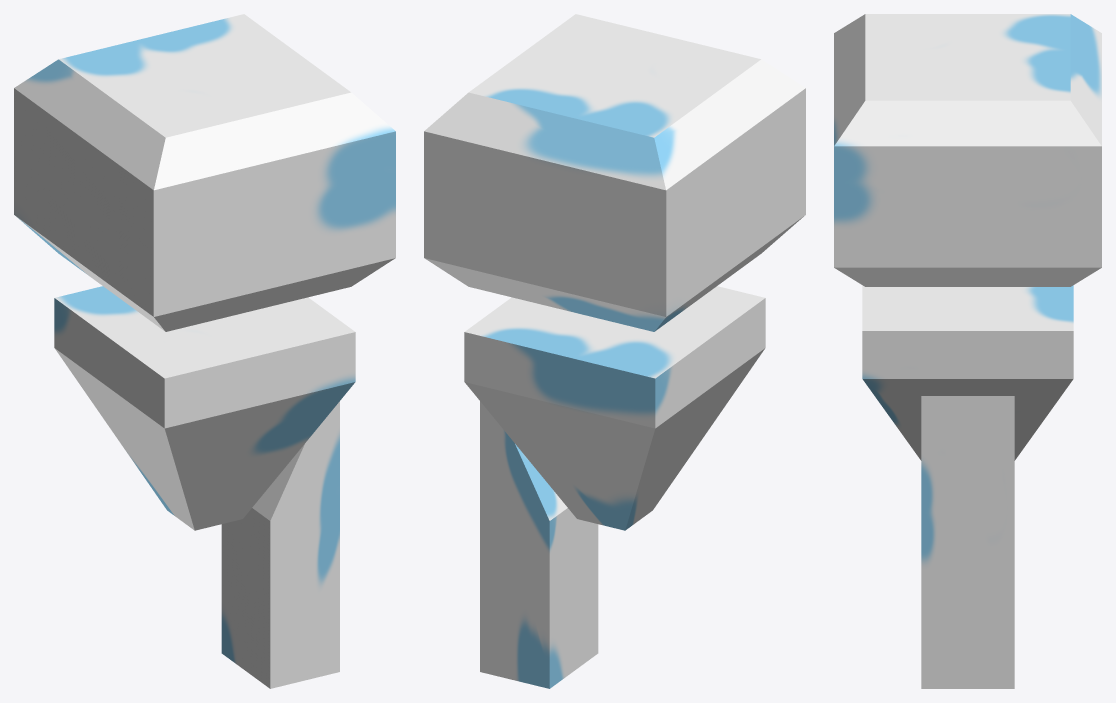
File: simple.gltf
3 views of the same model, side by side, from view 1: azimuth 30°, elevation 25°; view 2: azimuth 150°, elevation 25°; view 3: azimuth 270°, elevation 25° (orthographic). The views are drawn at different scales.
Visible parts, largest first — view 1: WireFrame; view 2: WireFrame; view 3: WireFrame.
Boxes of the visible parts, bbox=[...] form: WireFrame: bbox=[14, 14, 395, 688]; WireFrame: bbox=[424, 14, 805, 688]; WireFrame: bbox=[834, 14, 1101, 688].
Size of the model in its own units: 0.507 by 1.21 by 0.507.
1 material, 1 textured.
